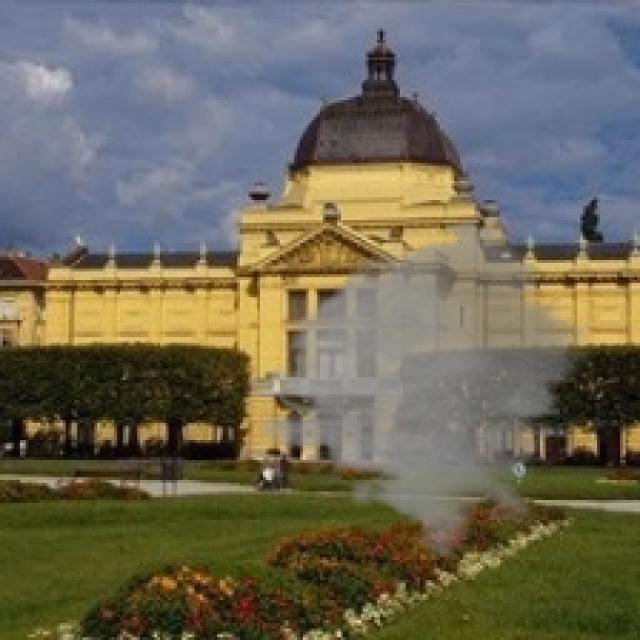Smoke: (243, 217, 620, 560)
